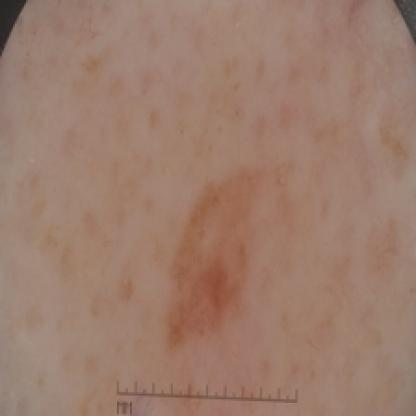Skin_Cancer-Malignant: (166, 161, 251, 353)
